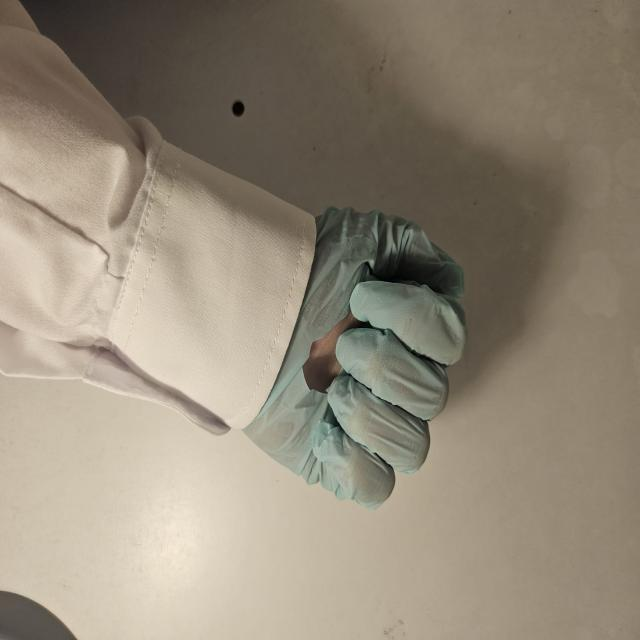gloves_damaged: (241, 202, 469, 508)
